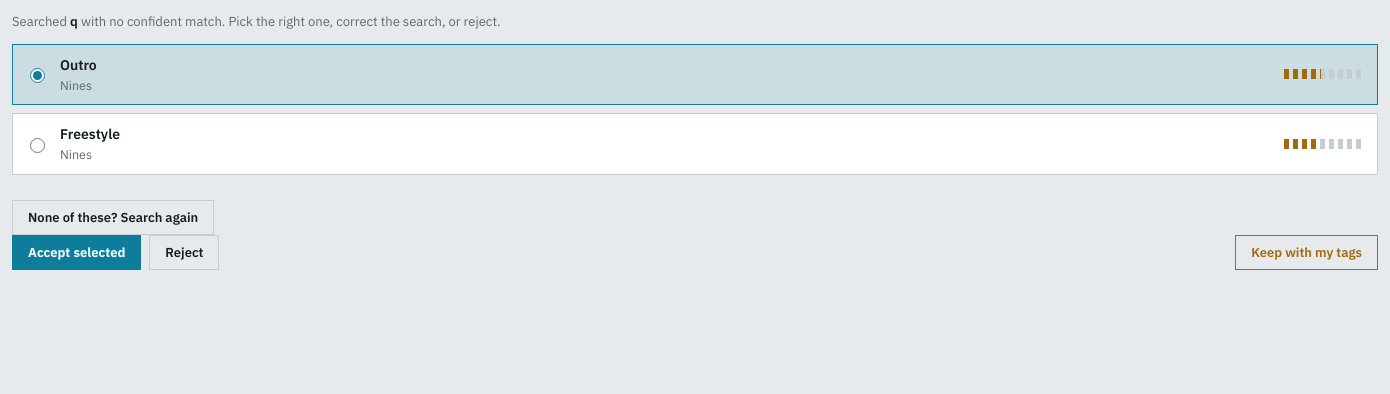
re-search — correcting the question › keeps the form behind a control when there ARE candidates to pick
Expected: the button "re-search" is not shown
But it must still be reachable: a wrong-but-present list is the harder dead-end.
Click the button "None of these? Search again" at (113, 218), box [12,200,214,235]
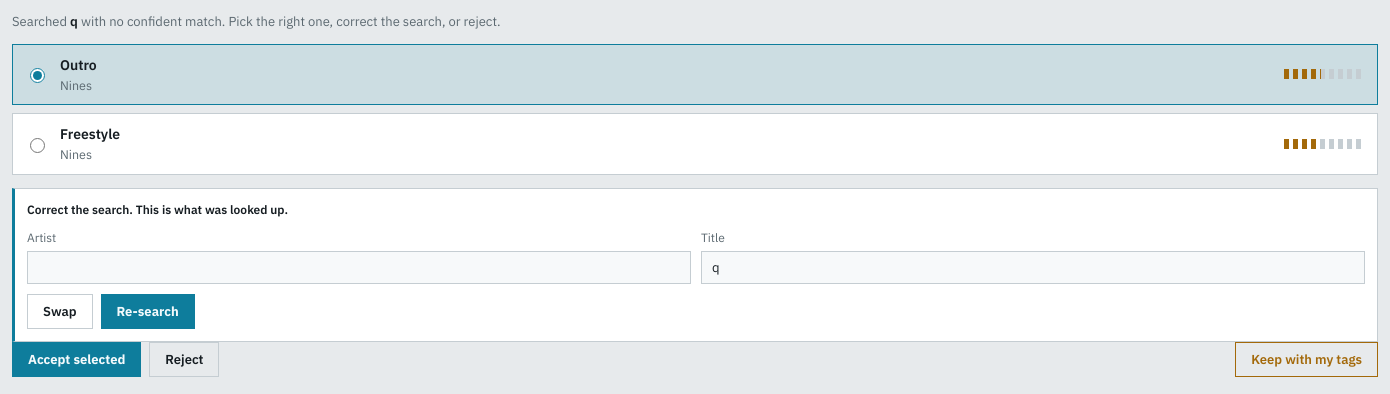
Expected: the button "Re-search" is shown, [100,294,195,329]
